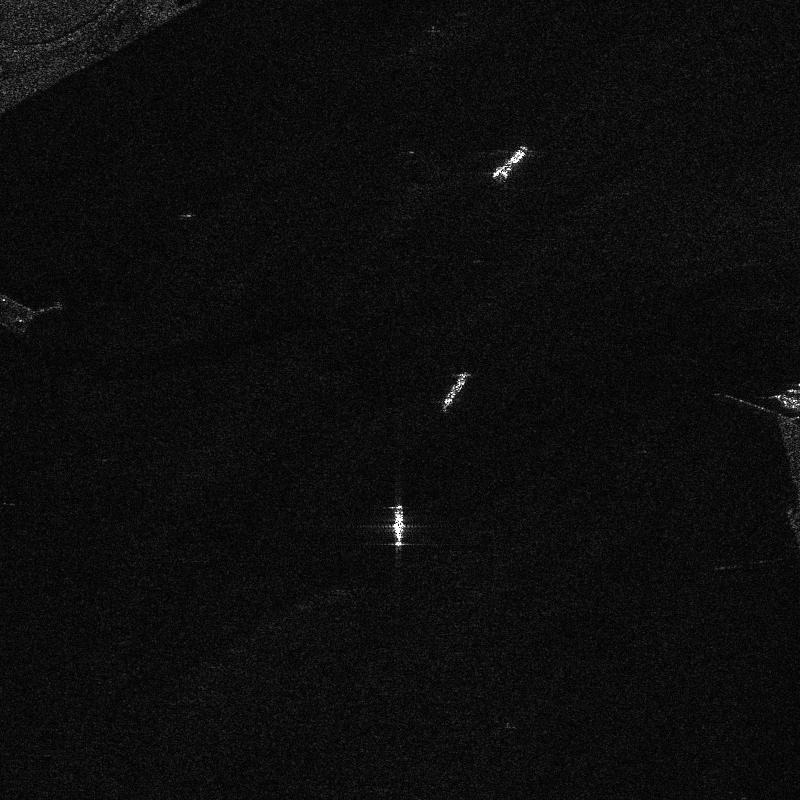ship: (492, 145, 528, 179), (441, 372, 468, 409), (392, 504, 403, 546)
